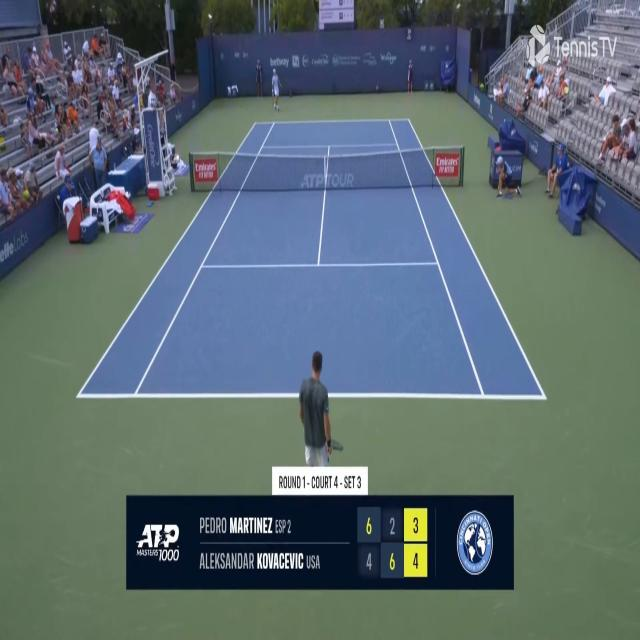tennis-player: (296, 347, 334, 484), (271, 66, 281, 112)
